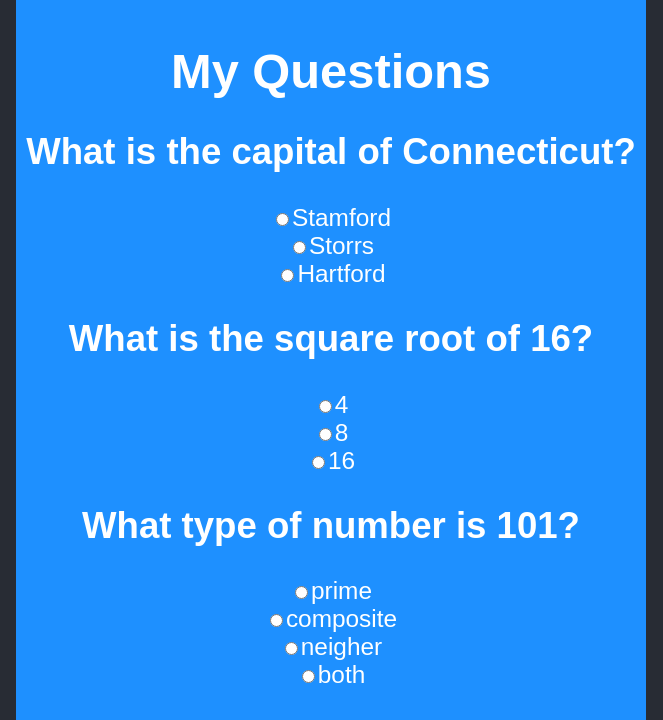
Test: increments score when correct answer is selected
Note: Simulate selecting the first correct answer
Click the text "Hartford" at [331, 273], box [276, 260, 386, 287]
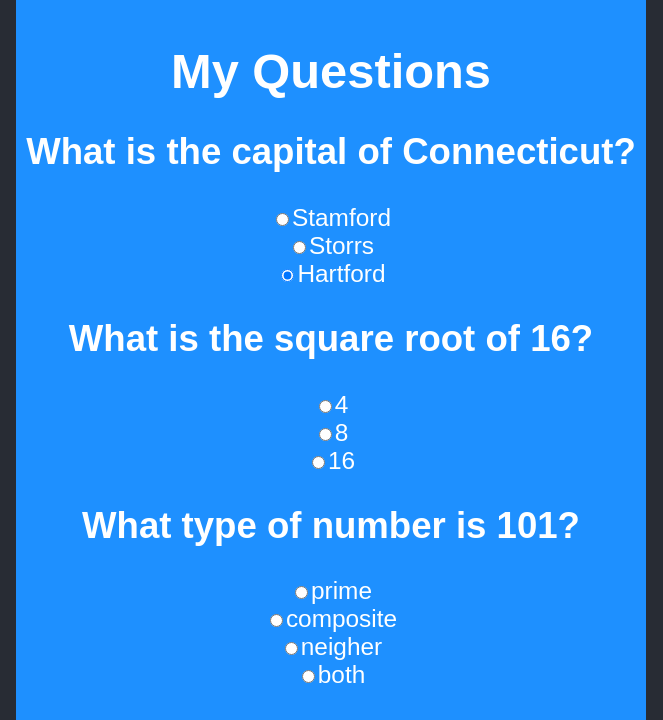
Note: Simulate selecting another correct answer
Click the label "4" at [331, 404], box [314, 390, 348, 418]
(page scrolled)
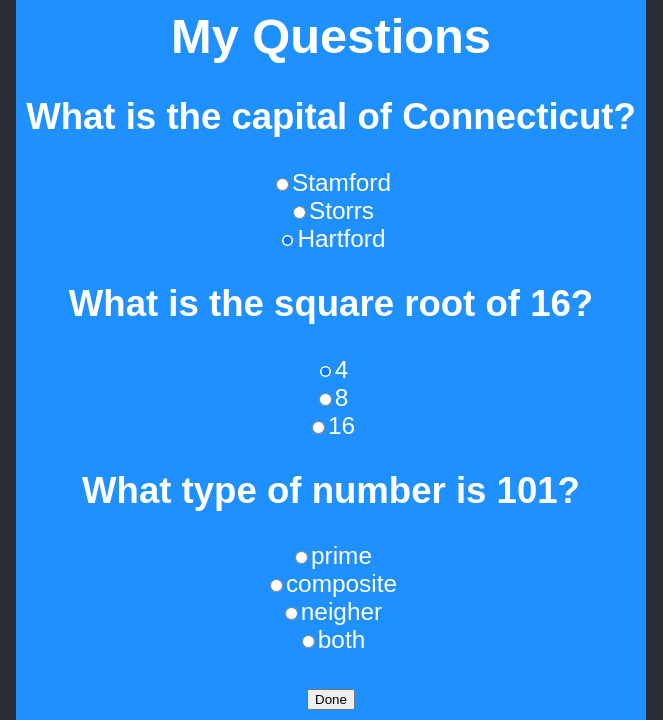
Note: Simulate clicking the 'Done' button
Click the button "Done" at [331, 700], box [307, 689, 355, 710]
(page scrolled)
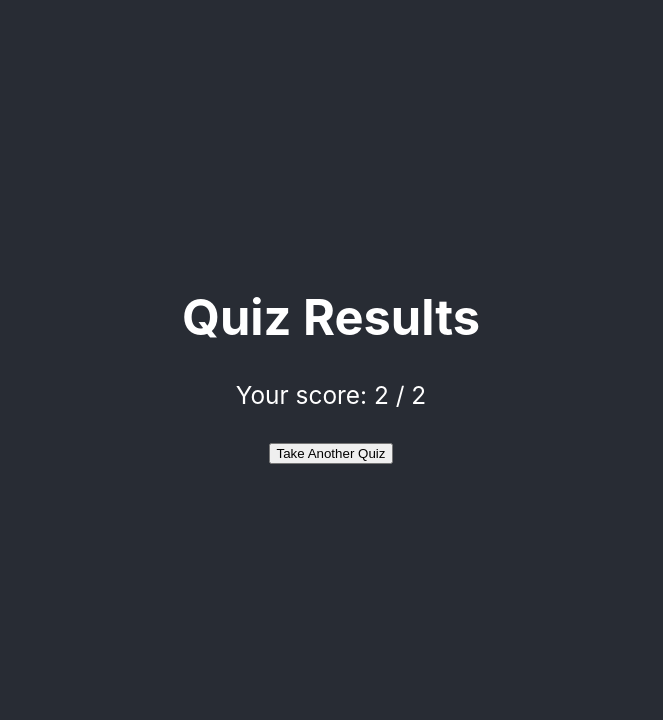
Result: the text "Your score: 2 / 2" is shown at [236, 380, 426, 410]
